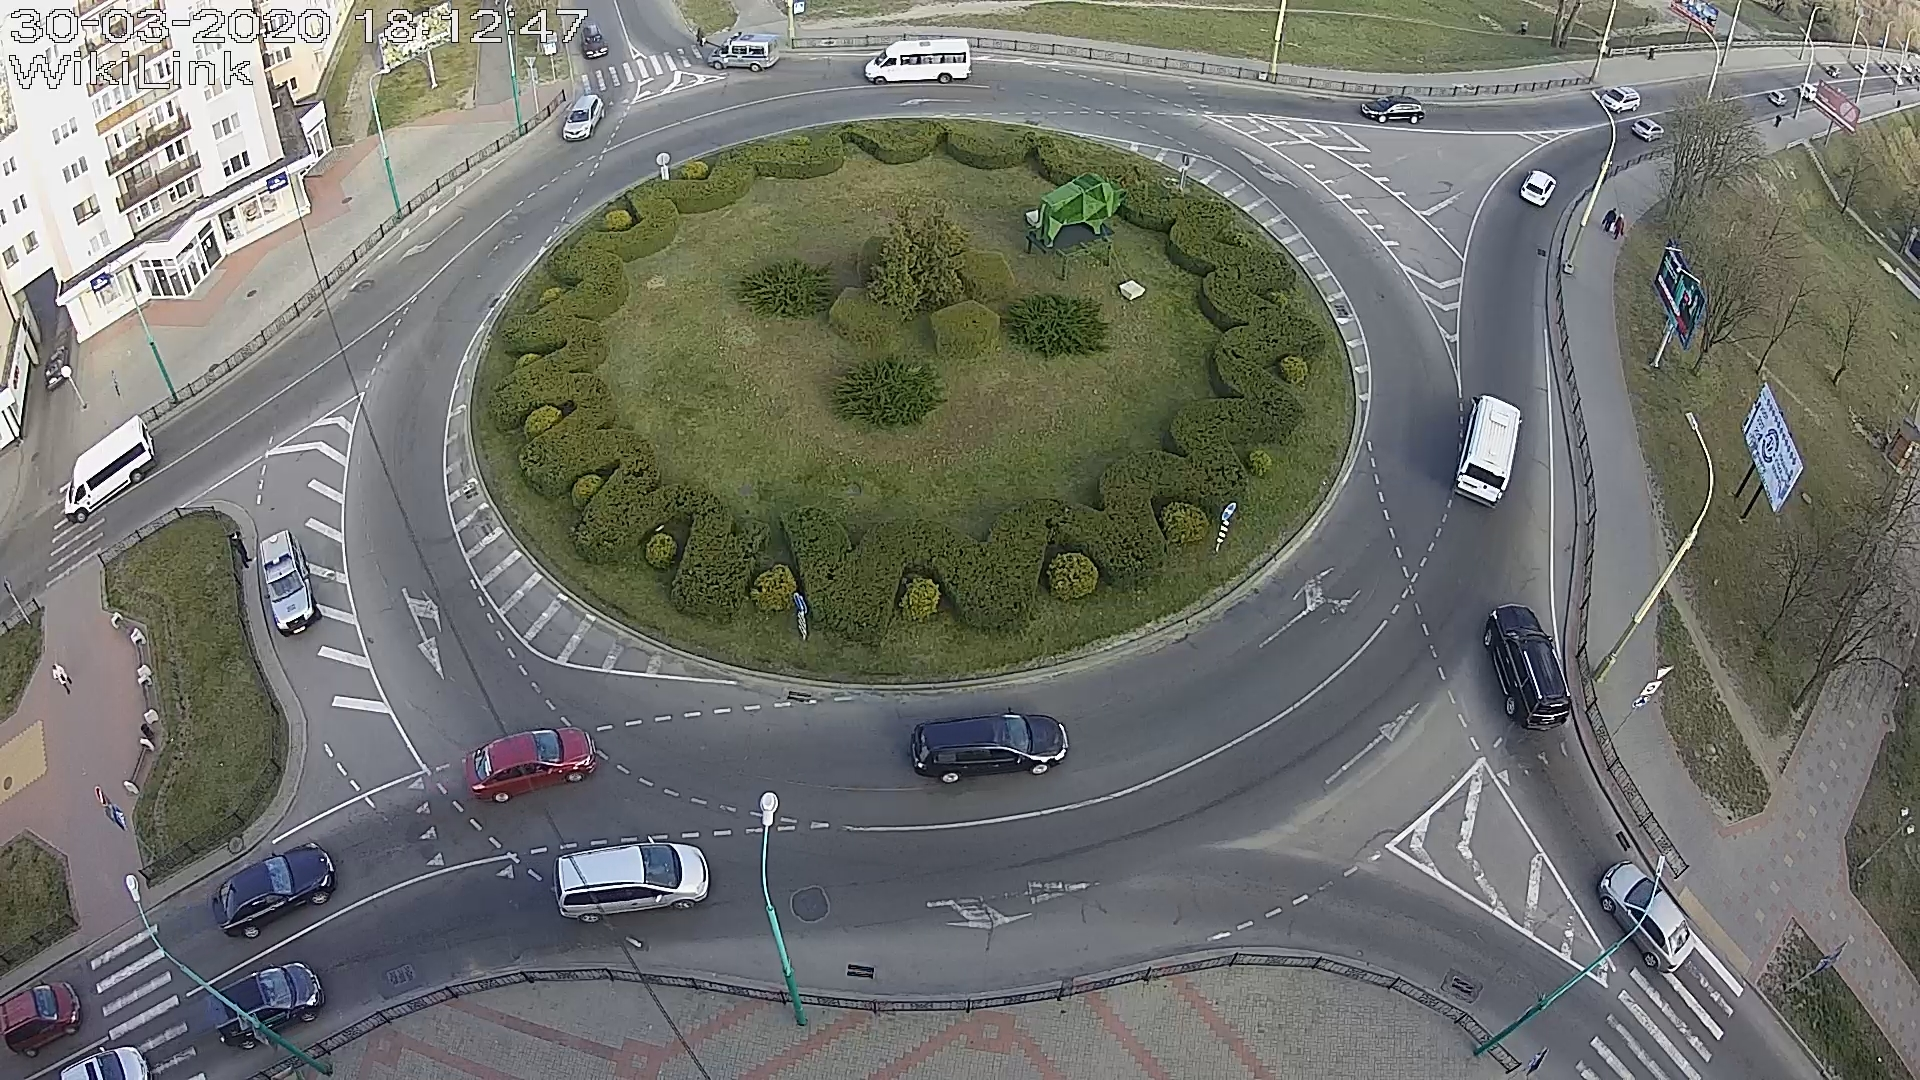car: (553, 836, 709, 923), (910, 707, 1069, 785), (212, 843, 336, 939), (1596, 858, 1698, 973), (1482, 603, 1572, 732), (464, 727, 597, 804), (65, 415, 158, 524), (208, 963, 324, 1050), (1451, 394, 1523, 509), (258, 529, 322, 637), (1, 981, 80, 1059), (864, 38, 972, 86), (707, 32, 781, 73), (562, 95, 605, 142), (1360, 95, 1425, 124), (1520, 169, 1557, 207), (1600, 87, 1640, 115), (580, 22, 609, 61), (1631, 117, 1665, 142)
